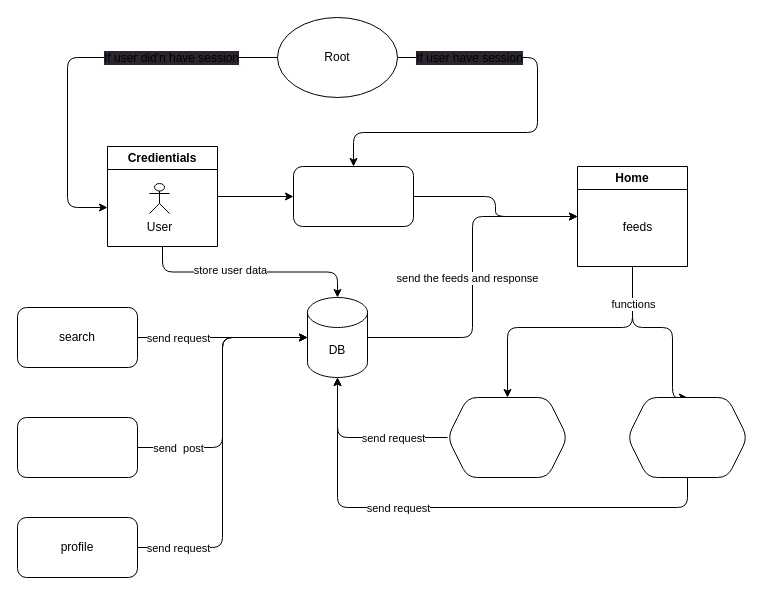
The diagram is 765 pixels wide and 595 high, and some of its shapes have lost their labels. Here are the shapes that lost their labels. From the top down, the centre of each, then its label:
(x=353, y=196): Session
(x=77, y=447): post
(x=507, y=437): Block, hide, Report
(x=687, y=437): Like, share, command
